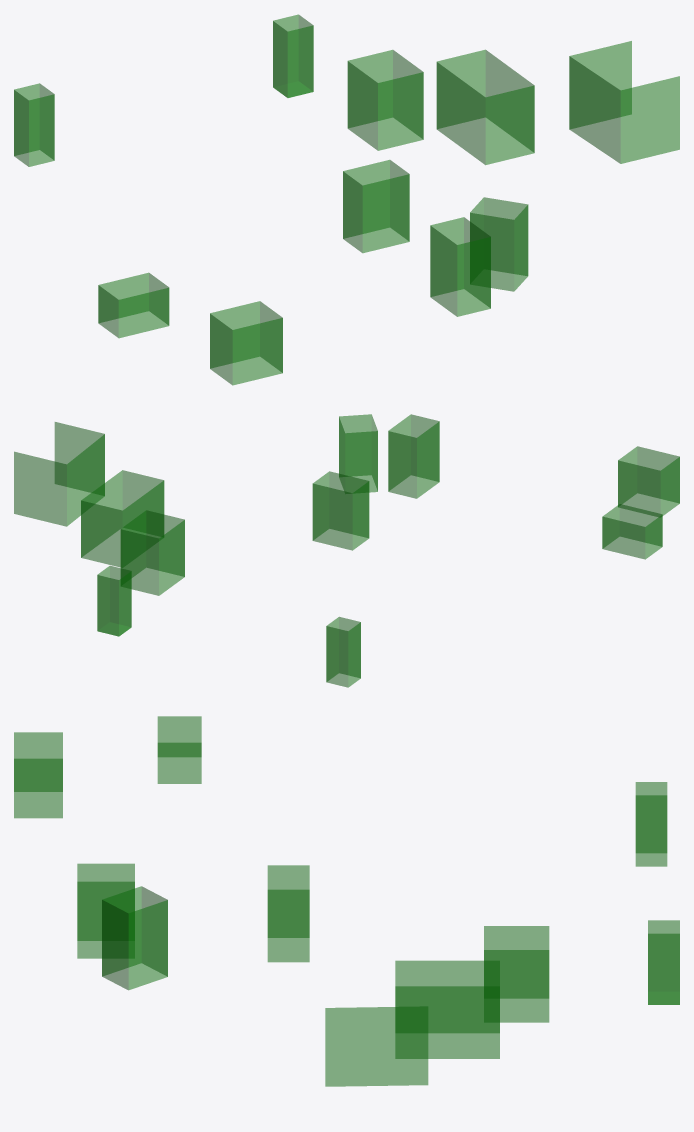
Rendered from C_wall_cottage.obj.
3 renders of one model, top to bottom at view 1: azimuth 30°, elevation 25°; view 2: azimuth 150°, elevation 25°; view 3: azimuth 270°, elevation 25°, orthographic. The views are drawn at different scales.
Size of the model in its own units: 412 by 45.31 by 347.
